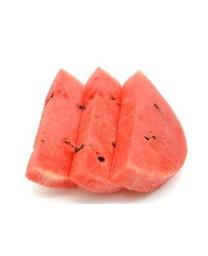watermelon: (25, 68, 190, 197)
